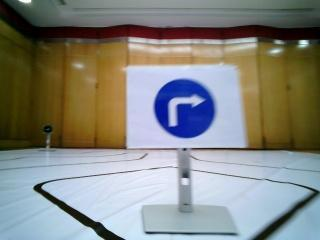right: (139, 68, 225, 141)
